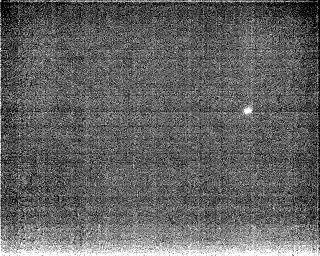AIRPLANE: (242, 105, 254, 116)
